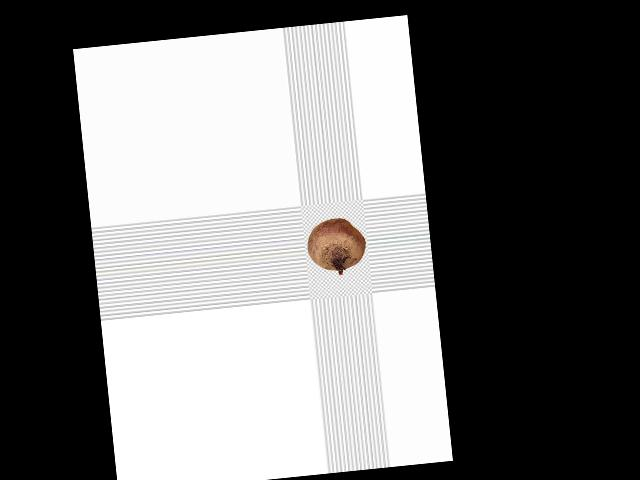beet: (305, 216, 368, 278)
